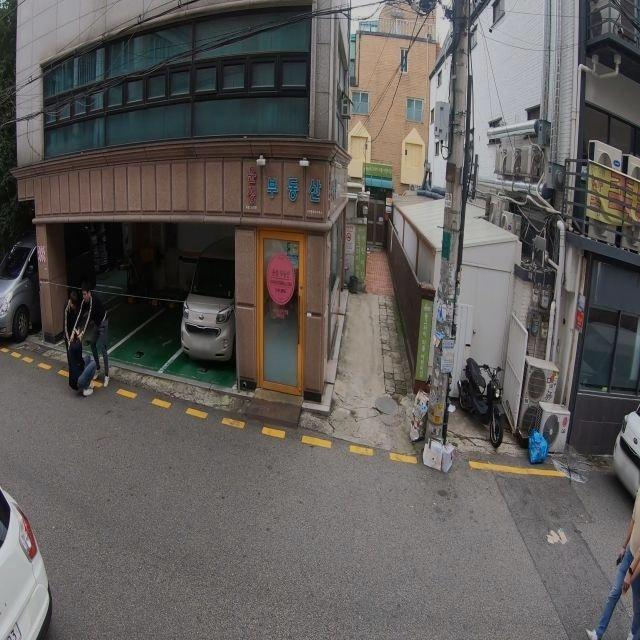fight: (64, 287, 109, 399)
